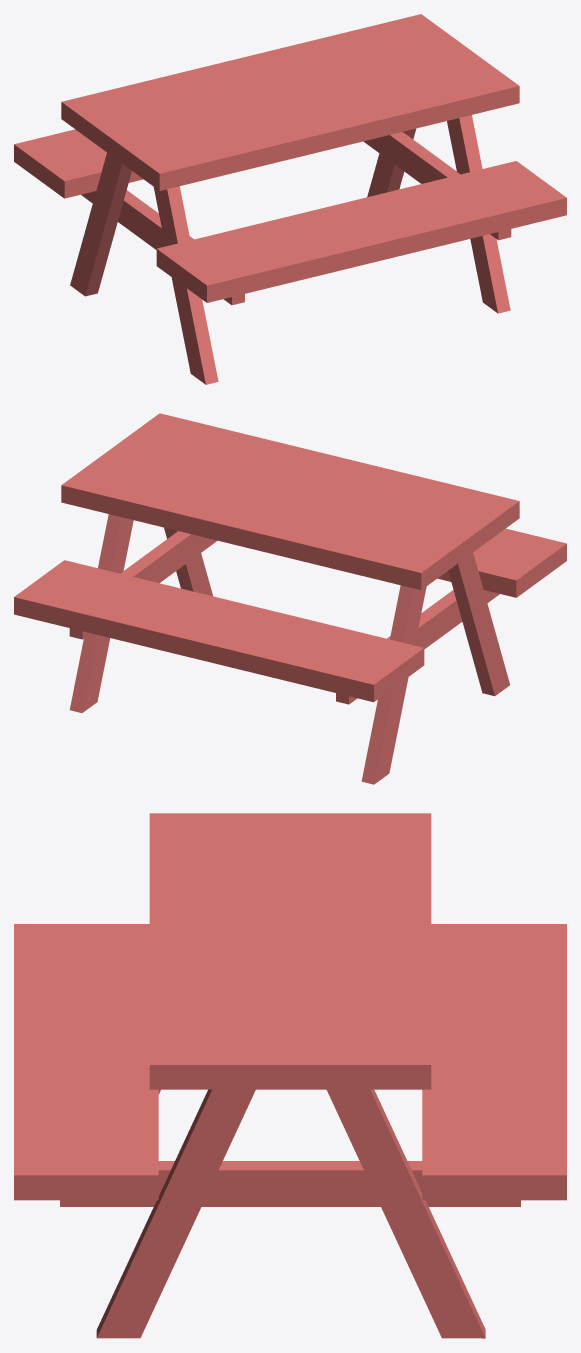
Rendered from picnic_table.gltf.
The picture shows the model from 3 angles, top to bottom: view 1: azimuth 30°, elevation 25°; view 2: azimuth 150°, elevation 25°; view 3: azimuth 270°, elevation 25°; orthographic projection. The views are drawn at different scales.
Visible parts, largest first — view 1: Table-col, Seat1-col, Seat2-col, LegD, LegB, LegA, CrossPlankA, CrossPlankB, LegC; view 2: Table-col, Seat2-col, Seat1-col, LegB, LegD, LegC, CrossPlankA, CrossPlankB, LegA; view 3: Table-col, Seat1-col, Seat2-col, LegA, LegC, CrossPlankA.
Part boxes in pixels (x1,y1,x2,y2): Table-col: [61, 14, 519, 190]; Seat1-col: [156, 161, 566, 302]; Seat2-col: [14, 129, 143, 198]; LegD: [70, 153, 131, 296]; LegB: [153, 186, 218, 384]; LegA: [447, 115, 510, 313]; CrossPlankA: [363, 132, 511, 240]; CrossPlankB: [81, 190, 244, 305]; LegC: [367, 128, 415, 196]; Table-col: [61, 413, 519, 589]; Seat2-col: [14, 560, 424, 702]; Seat1-col: [437, 528, 566, 597]; LegB: [448, 552, 509, 696]; LegD: [361, 585, 426, 784]; LegC: [69, 514, 133, 712]; CrossPlankA: [69, 531, 217, 639]; CrossPlankB: [336, 590, 499, 704]; LegA: [164, 527, 212, 596]; Table-col: [149, 813, 431, 1089]; Seat1-col: [14, 924, 158, 1200]; Seat2-col: [422, 924, 566, 1200]; LegA: [96, 1089, 255, 1338]; LegC: [327, 1089, 485, 1338]; CrossPlankA: [60, 1161, 520, 1206].
Size of the model in its own units: 5.93 by 3.22 by 5.51.
